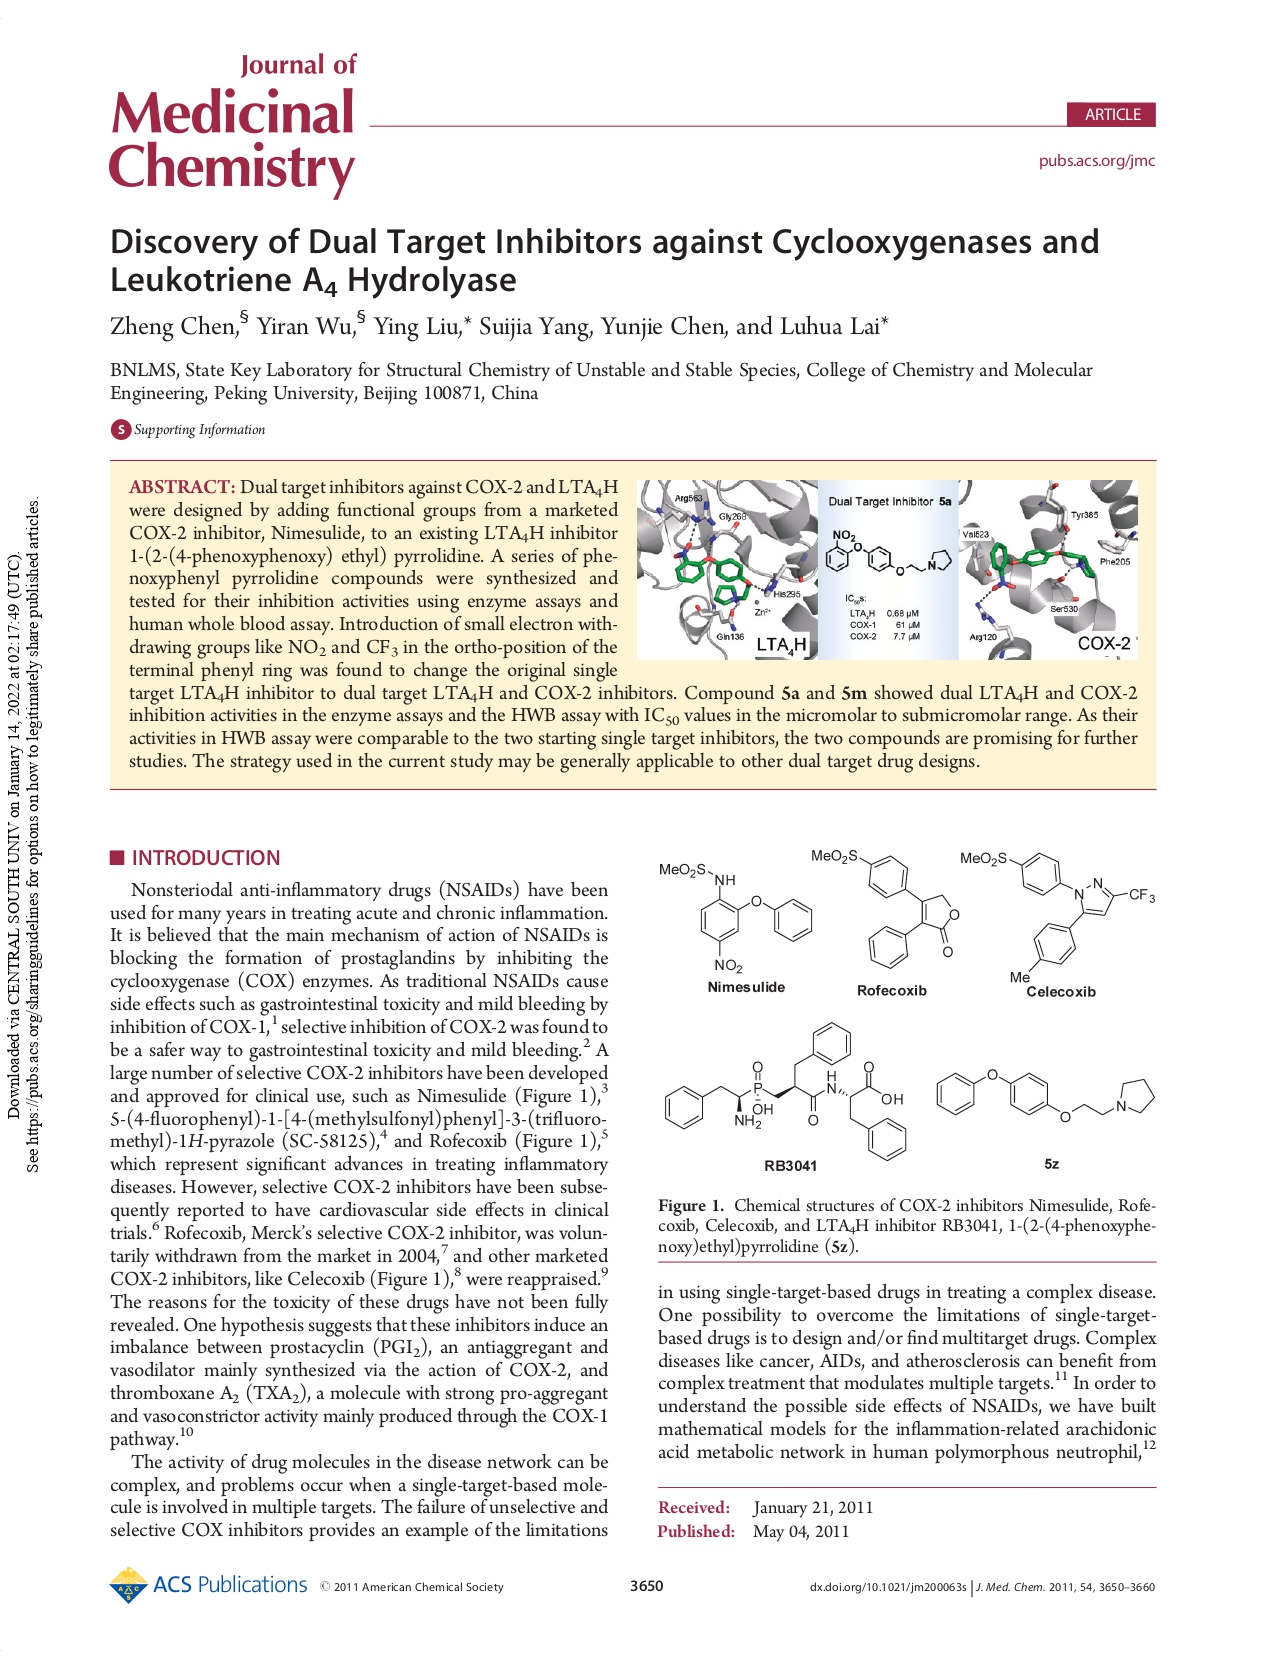exist_molecular: (661, 1019, 910, 1164), (960, 848, 1157, 984), (810, 847, 961, 972), (656, 860, 815, 977), (935, 1067, 1156, 1125), (824, 527, 953, 578)
